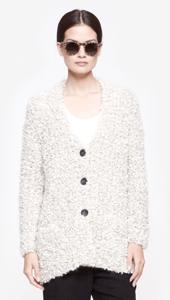S_cardigan sweater: (13, 89, 165, 268)
